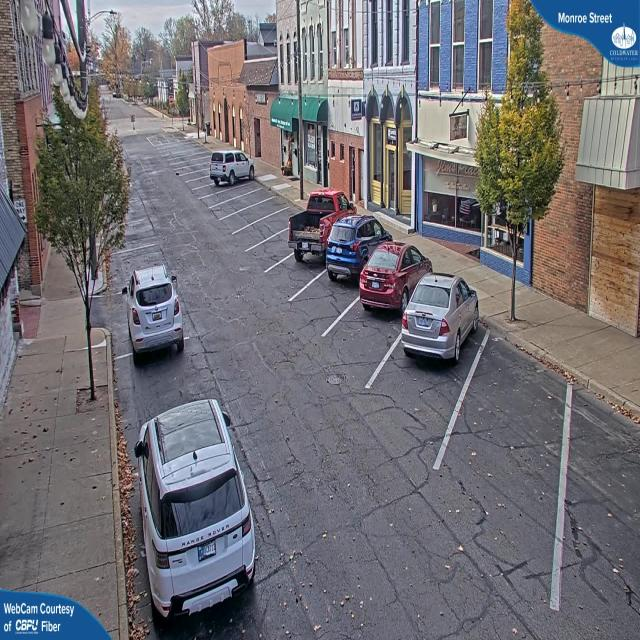available: (551, 362, 640, 579), (458, 331, 575, 448), (120, 328, 200, 405), (107, 212, 168, 262), (245, 229, 292, 276), (232, 217, 276, 248), (226, 206, 265, 233), (208, 184, 242, 207), (215, 195, 251, 214)
occupied: (121, 397, 270, 623), (400, 270, 478, 367), (123, 262, 185, 362), (357, 238, 425, 320), (324, 211, 390, 284), (291, 194, 347, 276), (208, 147, 254, 186)
